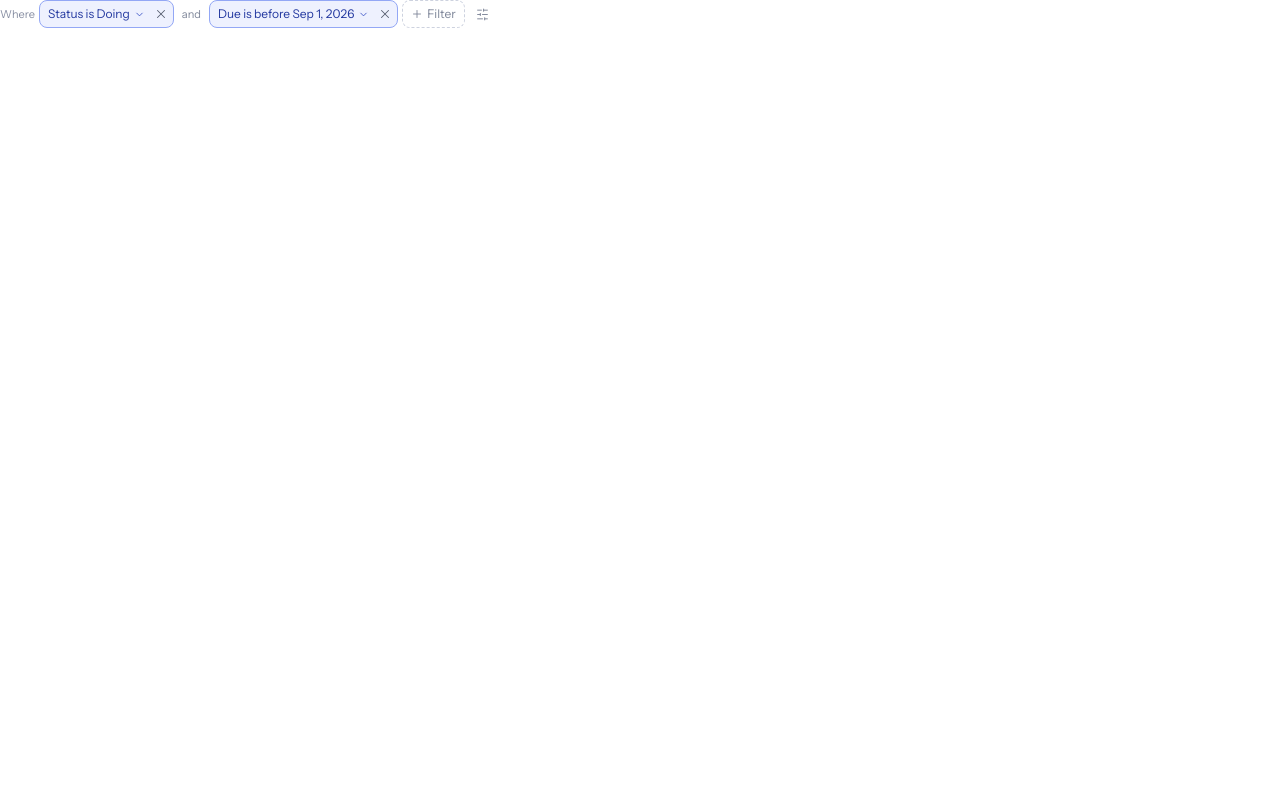
Scenario: FilterChips shows one chip per rule (M16.25) › a chip opens that one rule for editing
Click the button with test id "filter-chip-1".
click(292, 14)  # box [210,1,373,27]
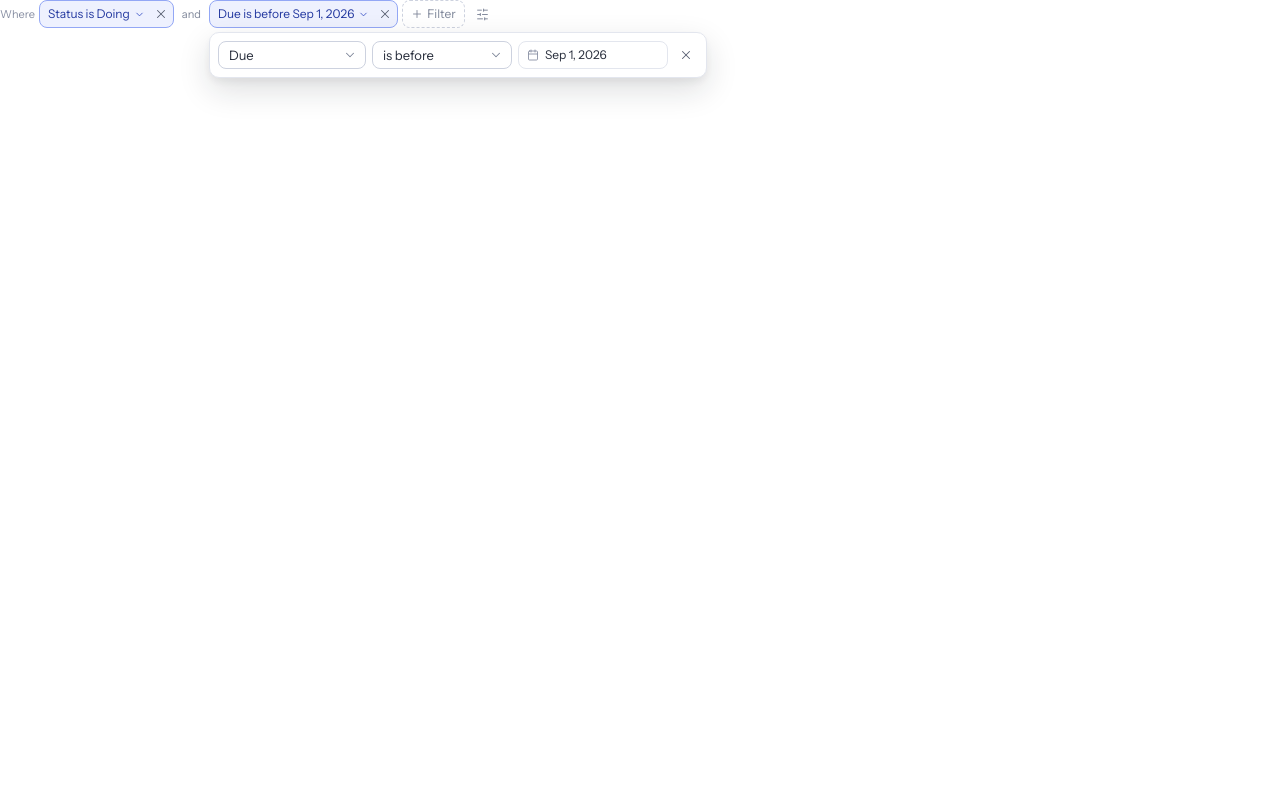
Check: the number of elements with test id "filter-rule" is 1, box [218,41,698,69]
Check: the button with aria-label "Filter property" is shown, box [218,41,366,69]
